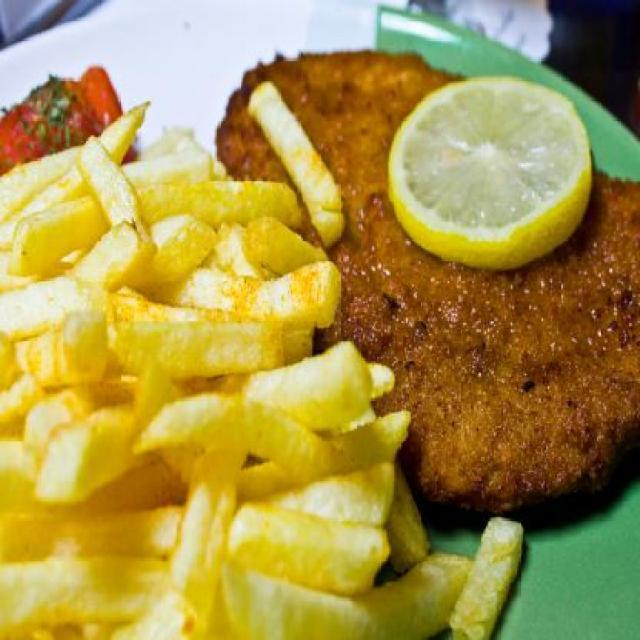Lemon: (393, 76, 587, 260)
